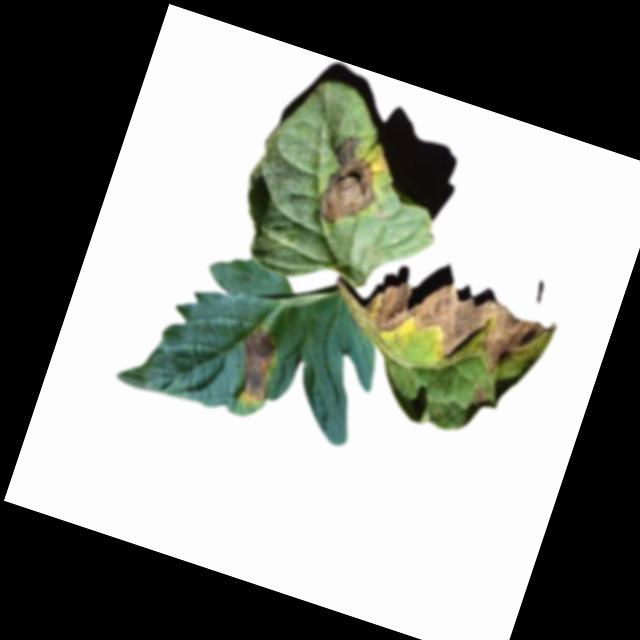Early_blight: (355, 262, 558, 394), (305, 128, 395, 236), (224, 323, 289, 410), (468, 384, 492, 410)
